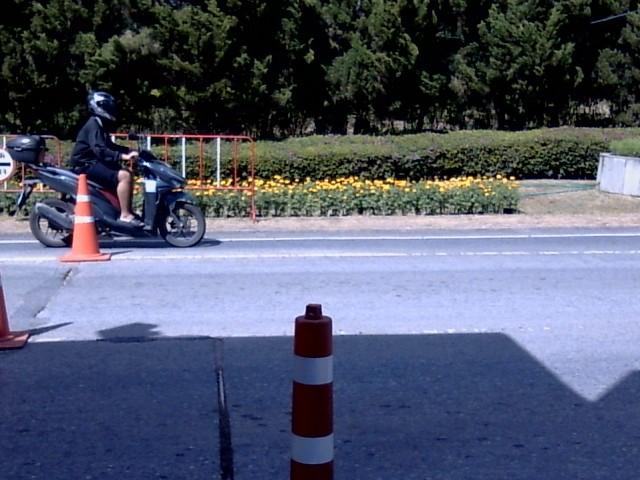helmet: (86, 85, 119, 122)
motor: (88, 150, 204, 246), (7, 142, 77, 245)
person: (71, 91, 142, 225)
